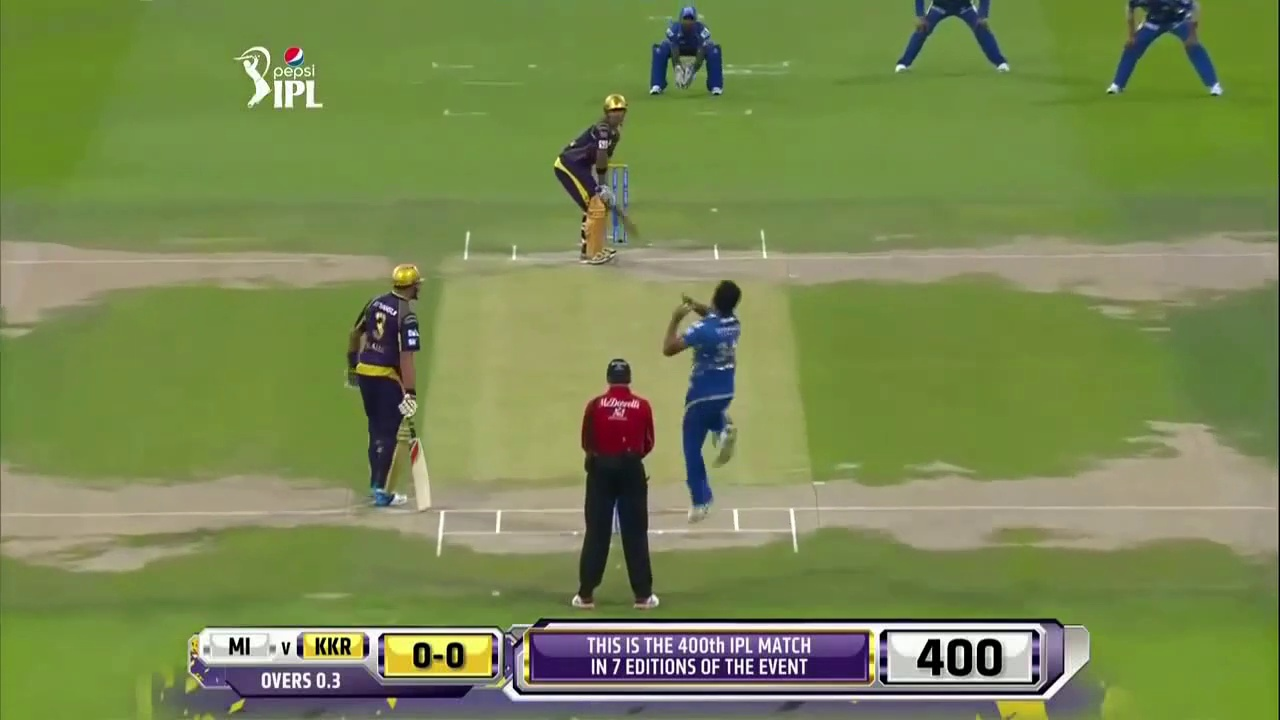bat: (408, 420, 432, 511)
